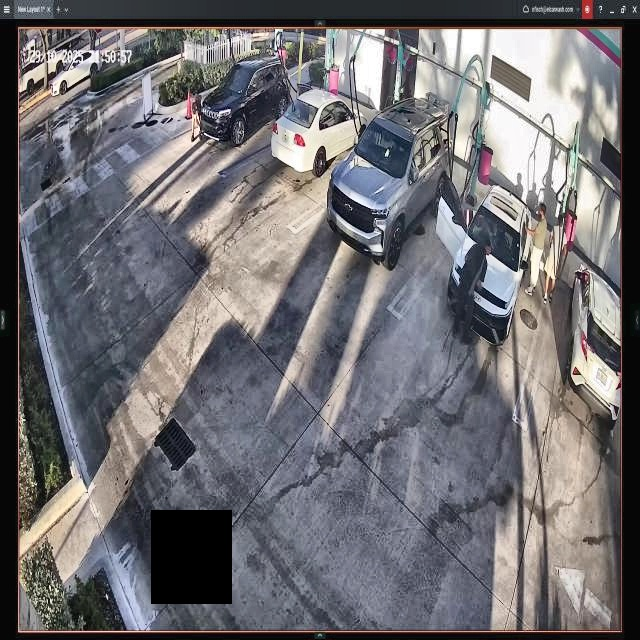Car: (328, 100, 451, 264), (440, 168, 530, 335), (273, 83, 366, 170)
